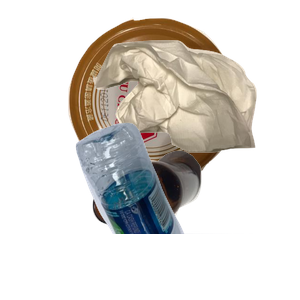glass: (90, 148, 300, 300)
metal: (66, 15, 297, 193)
plastic: (73, 120, 300, 300)
trash: (90, 38, 300, 183)
